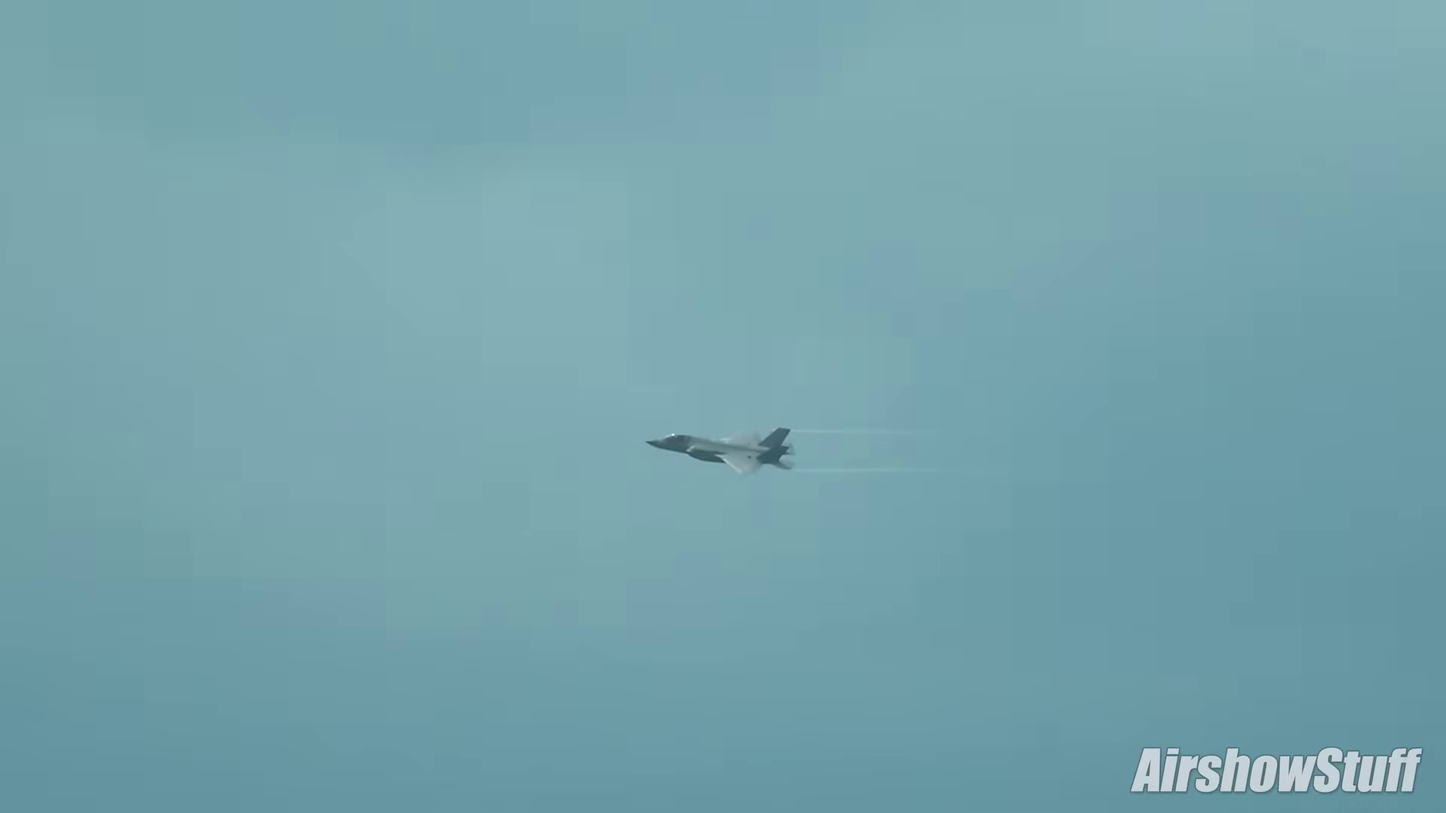F35: (642, 422, 795, 481)
